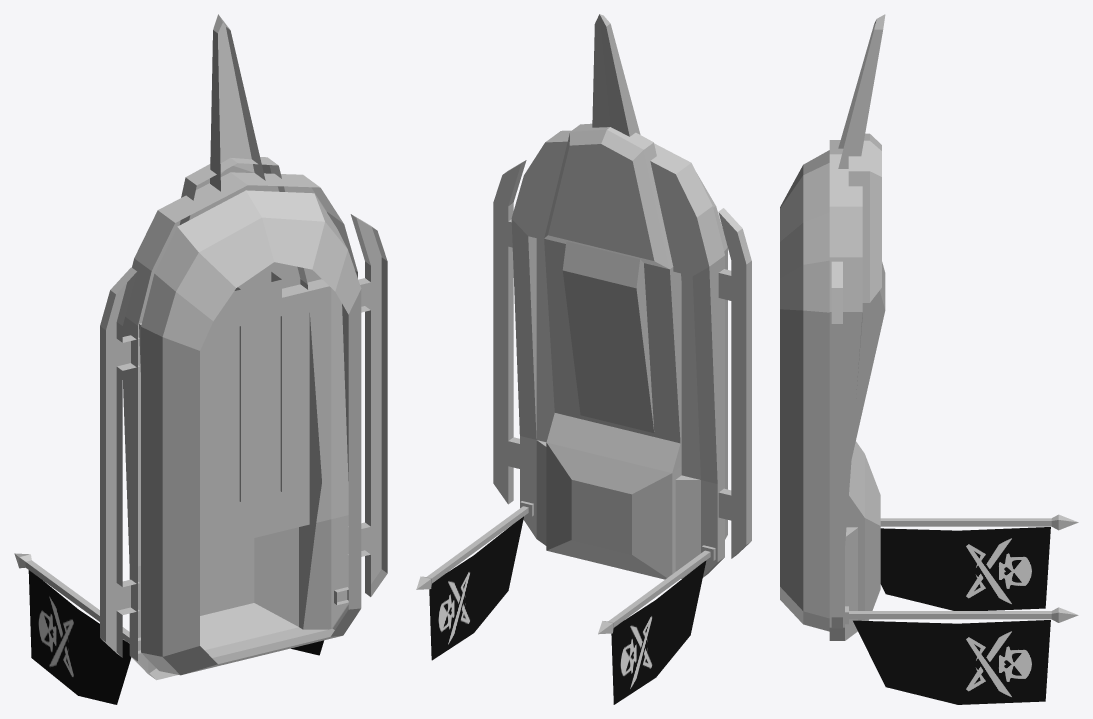
File: pirate_guide_my_ship_3.fbx
The picture shows the model from 3 angles, left to right: view 1: azimuth 30°, elevation 25°; view 2: azimuth 150°, elevation 25°; view 3: azimuth 270°, elevation 25°; orthographic projection. The views are drawn at different scales.
Visible parts, largest first — view 1: Cube.405; view 2: Cube.405; view 3: Cube.405.
Part boxes in pixels (<box>): Cube.405: <box>14,14,387,704</box>; Cube.405: <box>416,14,751,704</box>; Cube.405: <box>780,14,1078,704</box>.
Size of the model in its own units: 353 by 820 by 345.
